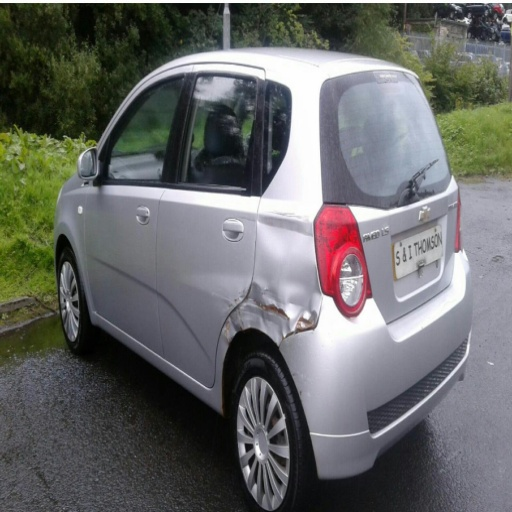dent: (223, 255, 322, 353), (259, 215, 313, 258), (211, 279, 250, 322)
rust: (249, 291, 290, 323), (295, 308, 318, 333), (229, 286, 248, 313), (223, 319, 231, 344), (235, 309, 244, 331), (220, 371, 223, 419), (281, 330, 285, 342)
scratch: (268, 206, 310, 224), (293, 370, 315, 384), (260, 284, 278, 296), (237, 216, 256, 222)
